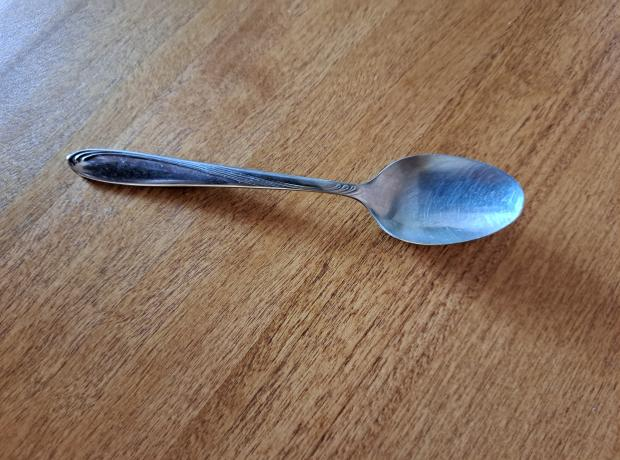metal: (70, 147, 524, 244)
